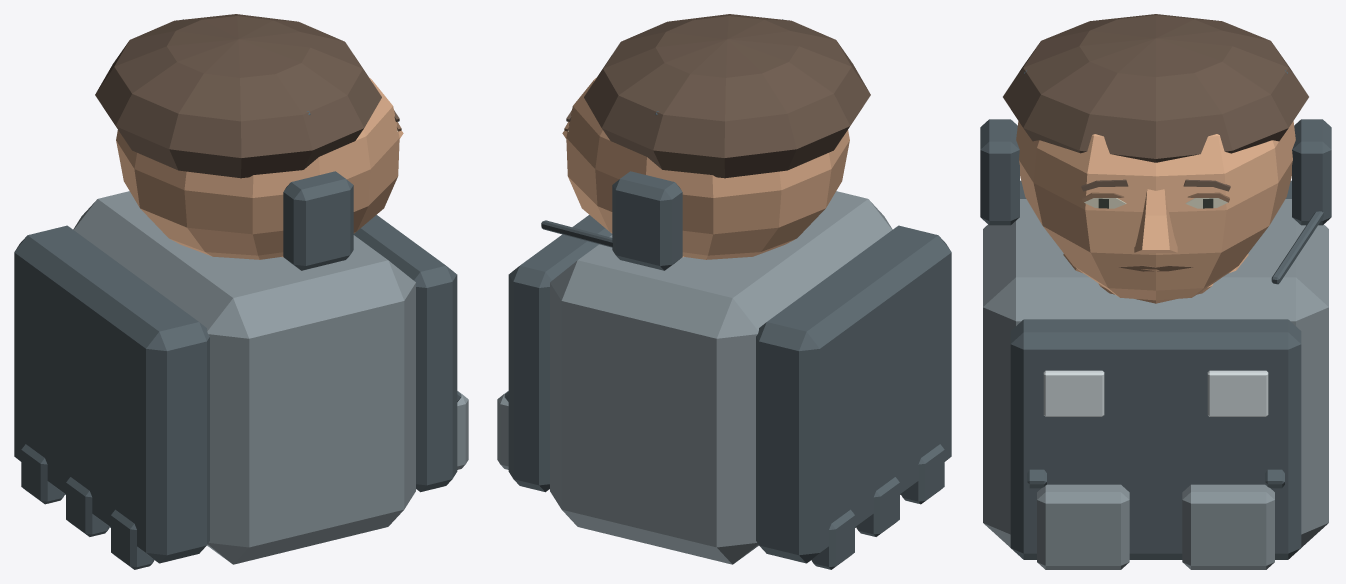
Rendered from steel-recon.helmet-off.glb.
3 views of the same model, side by side, from view 1: azimuth 30°, elevation 25°; view 2: azimuth 150°, elevation 25°; view 3: azimuth 270°, elevation 25° (orthographic). The views are drawn at different scales.
Parts seen in each view (by area): view 1: steel-recon_helmet-off__main__torso_finish_8c989e_0.03, steel-recon_helmet-off__main__torso_finish_59666d_0.03, steel-recon_helmet-off__main__head_finish_6a584b_0.03, steel-recon_helmet-off__main__head, steel-recon_helmet-off__main__head_finish_59666d_0.03; view 2: steel-recon_helmet-off__main__torso_finish_8c989e_0.03, steel-recon_helmet-off__main__torso_finish_59666d_0.03, steel-recon_helmet-off__main__head_finish_6a584b_0.03, steel-recon_helmet-off__main__head, steel-recon_helmet-off__main__head_finish_59666d_0.03; view 3: steel-recon_helmet-off__main__torso_finish_59666d_0.03, steel-recon_helmet-off__main__torso_finish_8c989e_0.03, steel-recon_helmet-off__main__head_finish_6a584b_0.03, steel-recon_helmet-off__main__head, steel-recon_helmet-off__main__head_finish_59666d_0.03, steel-recon_helmet-off__main__torso_finish_d8e1e4_0.03.
Boxes of the visible parts, x1=… form: steel-recon_helmet-off__main__torso_finish_8c989e_0.03: x1=73, y1=191, x2=468, y2=564; steel-recon_helmet-off__main__torso_finish_59666d_0.03: x1=14, y1=215, x2=461, y2=569; steel-recon_helmet-off__main__head_finish_6a584b_0.03: x1=95, y1=14, x2=381, y2=178; steel-recon_helmet-off__main__head: x1=116, y1=77, x2=403, y2=259; steel-recon_helmet-off__main__head_finish_59666d_0.03: x1=182, y1=19, x2=353, y2=270; steel-recon_helmet-off__main__torso_finish_8c989e_0.03: x1=497, y1=191, x2=892, y2=564; steel-recon_helmet-off__main__torso_finish_59666d_0.03: x1=504, y1=215, x2=951, y2=569; steel-recon_helmet-off__main__head_finish_6a584b_0.03: x1=584, y1=14, x2=870, y2=178; steel-recon_helmet-off__main__head: x1=562, y1=77, x2=849, y2=259; steel-recon_helmet-off__main__head_finish_59666d_0.03: x1=541, y1=19, x2=783, y2=270; steel-recon_helmet-off__main__torso_finish_59666d_0.03: x1=1010, y1=180, x2=1301, y2=559; steel-recon_helmet-off__main__torso_finish_8c989e_0.03: x1=983, y1=199, x2=1328, y2=569; steel-recon_helmet-off__main__head_finish_6a584b_0.03: x1=1003, y1=14, x2=1308, y2=162; steel-recon_helmet-off__main__head: x1=1016, y1=121, x2=1295, y2=300; steel-recon_helmet-off__main__head_finish_59666d_0.03: x1=980, y1=70, x2=1331, y2=284; steel-recon_helmet-off__main__torso_finish_d8e1e4_0.03: x1=1043, y1=370, x2=1268, y2=416.
Bounding box in the file's own units: 30.65 × 39.5 × 26.6.
